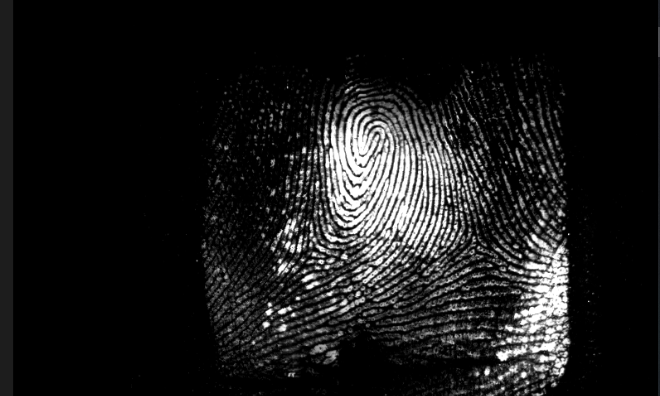deltas: (284, 230, 334, 271), (452, 222, 491, 269)
nucleo: (349, 111, 397, 158)
